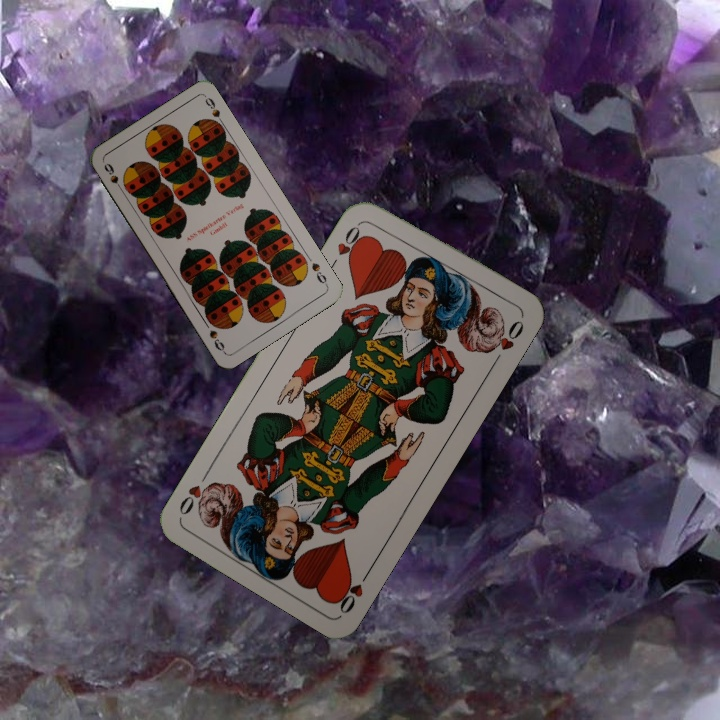HO: (331, 563, 375, 617), (326, 217, 369, 270)
S9: (100, 159, 126, 196), (307, 259, 330, 289)
